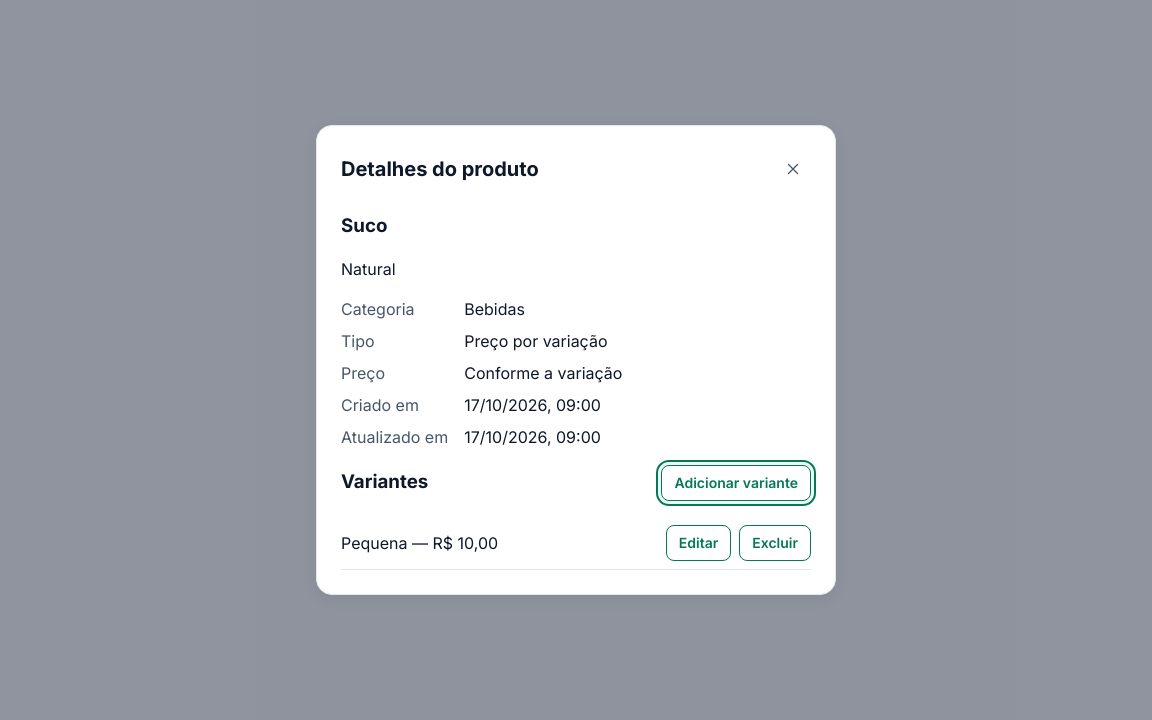
Test case: variant edit modal › PATCHes only changed name and refreshes details/list
The width and height of the screenshot is (1152, 720).
Click the button with aria-label "Editar variante Pequena".
click(699, 542)  # box [666,524,731,560]
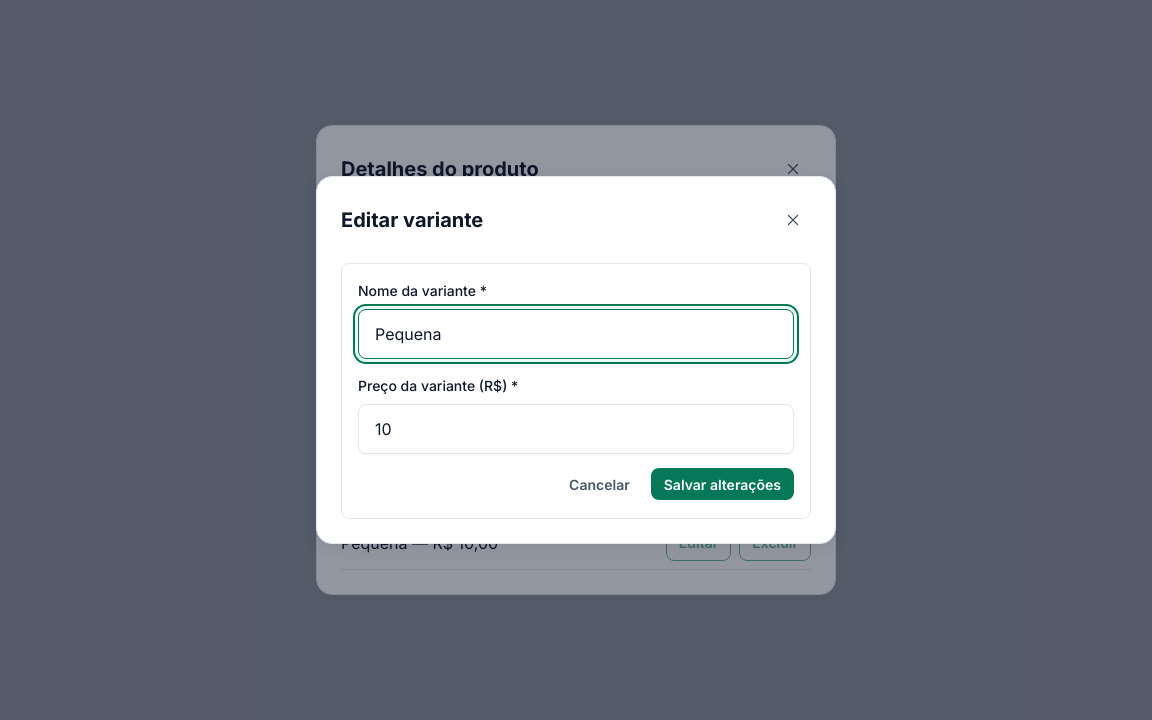
Replace the text in the field labelled "Nome da variante *" with "Grande" at coordinates (576, 334), box [358,309,794,359]
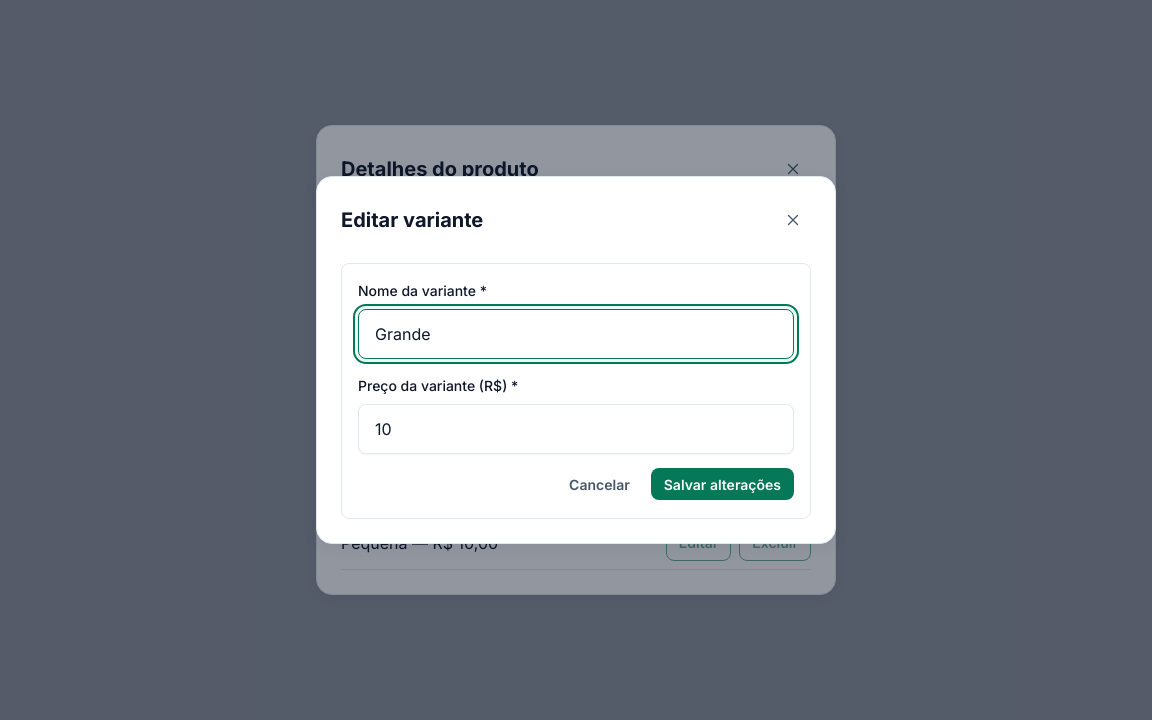
Click the button "Salvar alterações".
click(722, 484)  # box [651,468,794,500]
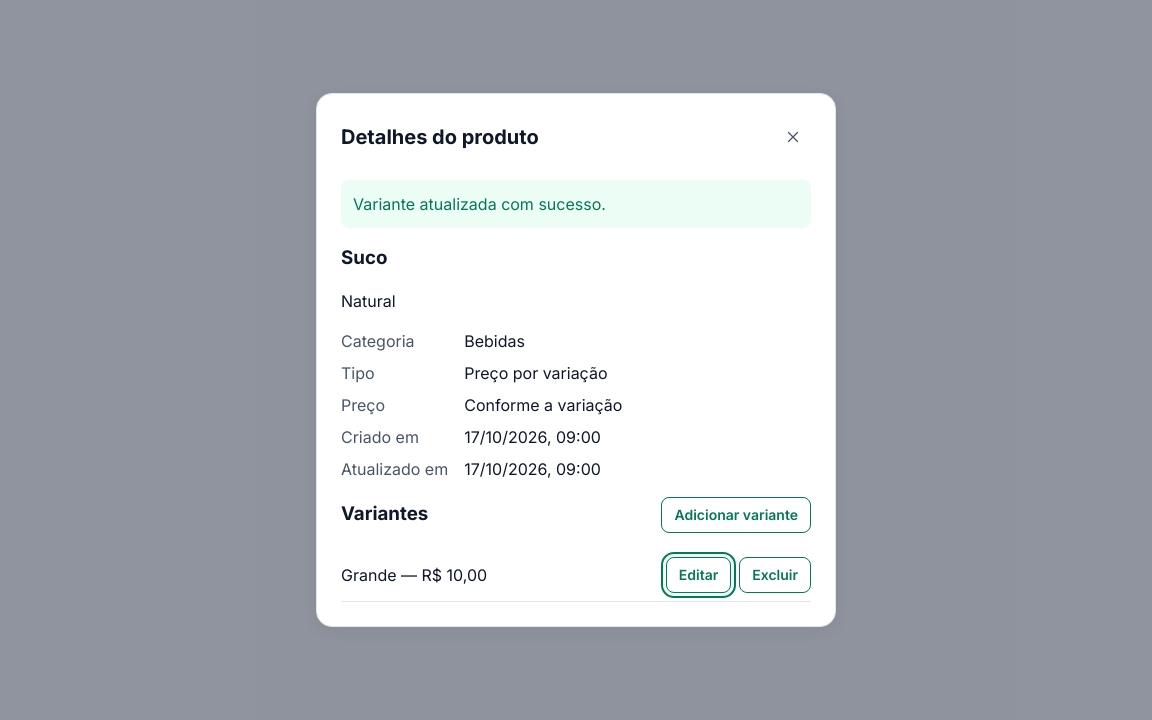
Now the text "Variante atualizada com sucesso." is shown, box [341,180,811,228]
Now the heading "Editar variante" is gone
